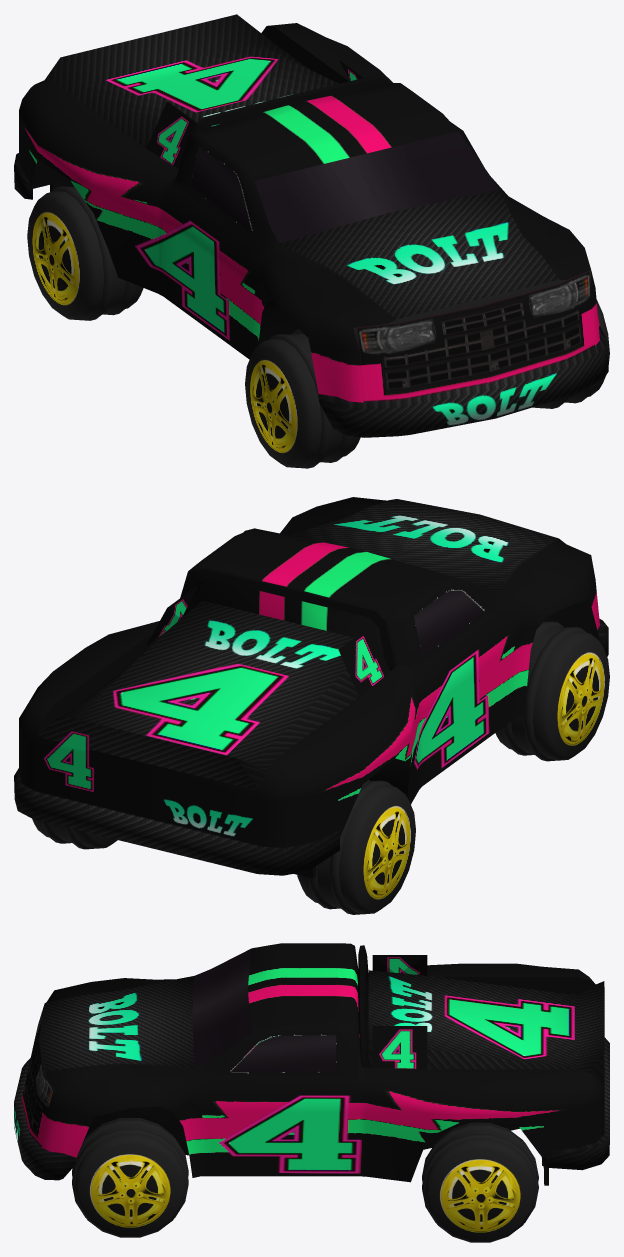
Rendered from Car03.FBX.
3 renders of one model, top to bottom at view 1: azimuth 30°, elevation 25°; view 2: azimuth 150°, elevation 25°; view 3: azimuth 270°, elevation 25°, orthographic. The views are drawn at different scales.
Parts seen in each view (by area): view 1: Truck03, Wheel50, Wheel48, Wheel47; view 2: Truck03, Wheel48, Wheel50, Wheel49; view 3: Truck03, Wheel49, Wheel47.
Part boxes in pixels (<box>): Truck03: <box>14,14,608,437</box>; Wheel50: <box>27,186,143,320</box>; Wheel48: <box>245,329,360,468</box>; Wheel47: <box>532,299,609,408</box>; Truck03: <box>14,497,608,878</box>; Wheel48: <box>495,621,609,761</box>; Wheel50: <box>297,780,415,914</box>; Wheel49: <box>32,818,117,849</box>; Truck03: <box>14,943,609,1185</box>; Wheel49: <box>422,1122,538,1242</box>; Wheel47: <box>72,1118,188,1237</box>.
Size of the model in its own units: 4.49 by 8.01 by 2.95.
Materials: 2 (2 with a texture image).
